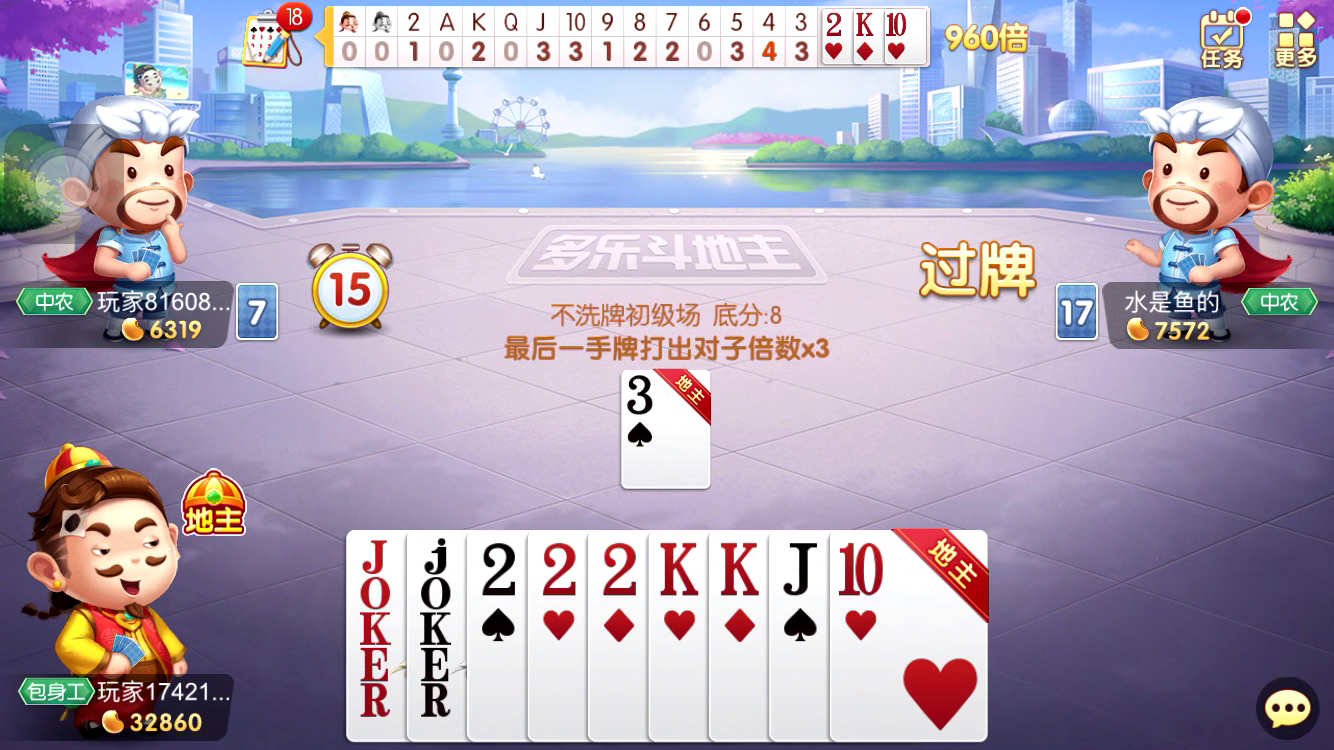J: (773, 535, 821, 605)
JOKER: (347, 532, 401, 654)
K: (652, 534, 706, 602), (712, 536, 765, 605), (852, 7, 878, 42)
joker: (412, 533, 460, 653)
ten: (832, 537, 892, 603), (883, 10, 912, 42)
three: (621, 372, 664, 423)
two: (471, 537, 525, 605), (593, 538, 645, 606), (533, 538, 586, 603), (821, 9, 850, 41)
